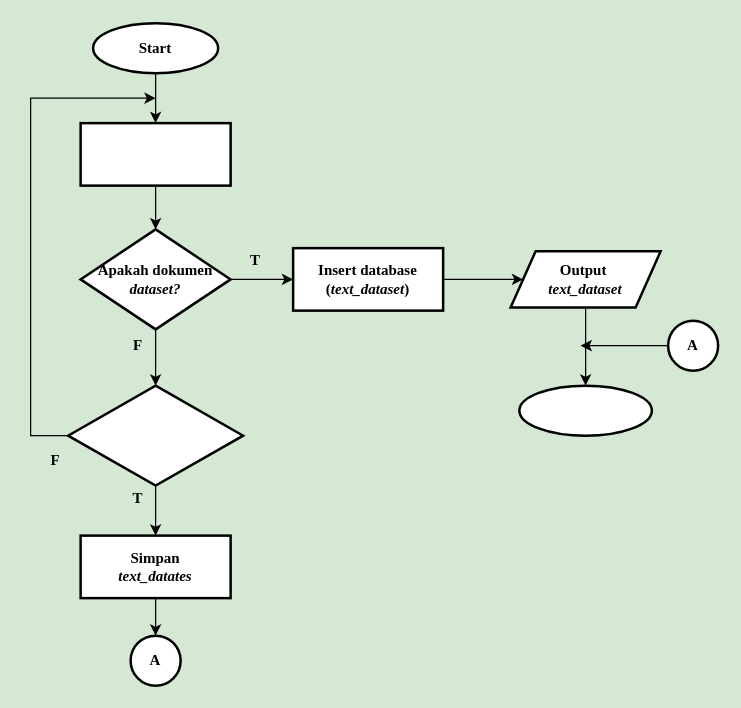
Some shapes in this 741 by 708 pixel diagram are drawn without their labels. Each missing label, with the centre of its shape:
"Apakah dokumen data tes ?" goes at pixel 155 435.
"End" goes at pixel 585 410.
"Pilih Dokumen (.pdf, < 1mb)" goes at pixel 155 153.
